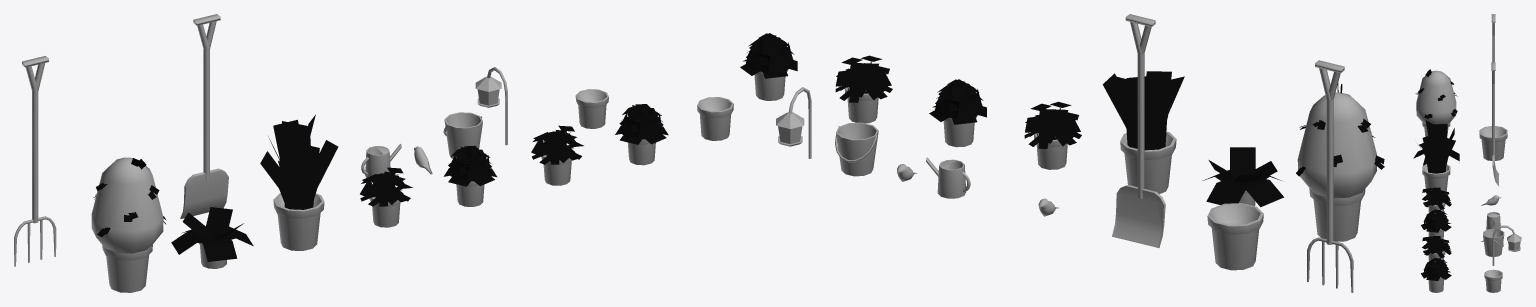
Rendered from Garden_Decor_03.fbx.
3 views of the same model, side by side, from view 1: azimuth 30°, elevation 25°; view 2: azimuth 150°, elevation 25°; view 3: azimuth 270°, elevation 25° (orthographic). The views are drawn at different scales.
Visible parts, largest first — view 1: MESH_Plant_07, MESH_Plant_Leave_04, MESH_Shovel, MESH_Plant_leave_06, MESH_Fork, MESH_Plant_04, MESH_Plant_Leave_03, MESH_Plant_Leave_01, MESH_Plant_Leave_02, MESH_Plant_Leave_05, MESH_Bucket, MESH_SmallPot (+7 smaller); view 2: MESH_Plant_07, MESH_Shovel, MESH_Plant_Leave_04, MESH_BigPot, MESH_Plant_leave_06, MESH_Fork, MESH_Bucket, MESH_Plant_04, MESH_Plant_Leave_05, MESH_Plant_Leave_02, MESH_Plant_Leave_01, MESH_Plant_Leave_03 (+8 smaller); view 3: MESH_Plant_07, MESH_Plant_Leave_04, MESH_BigPot, MESH_Bucket, MESH_Plant_Leave_01, MESH_Plant_Leave_03, MESH_Plant_04, MESH_Plant_Leave_05, MESH_Plant_Leave_02, MESH_Shovel, MESH_Lamp, MESH_SmallPot (+9 smaller).
Part boxes in pixels (x1,y1,x2,y2): MESH_Plant_07: (91,157,163,292); MESH_Plant_Leave_04: (260,114,338,209); MESH_Shovel: (180,14,228,218); MESH_Plant_leave_06: (171,207,253,261); MESH_Fork: (14,56,56,266); MESH_Plant_04: (273,193,324,250); MESH_Plant_Leave_03: (615,104,668,144); MESH_Plant_Leave_01: (443,145,496,186); MESH_Plant_Leave_02: (531,125,583,164); MESH_Plant_Leave_05: (360,167,412,206); MESH_Bucket: (443,112,482,158); MESH_SmallPot: (575,89,608,128); MESH_Plant_07: (1297,92,1377,241); MESH_Shovel: (1112,14,1165,247); MESH_Plant_Leave_04: (1102,71,1184,150); MESH_BigPot: (1207,203,1263,270); MESH_Plant_leave_06: (1202,147,1283,207); MESH_Fork: (1307,60,1353,292); MESH_Bucket: (835,122,878,176); MESH_Plant_04: (1120,131,1176,193); MESH_Plant_Leave_05: (1024,101,1081,148); MESH_Plant_Leave_02: (835,55,892,102); MESH_Plant_Leave_01: (929,79,986,124); MESH_Plant_Leave_03: (740,33,797,78); MESH_Plant_07: (1416,70,1456,137); MESH_Plant_Leave_04: (1419,120,1455,173); MESH_BigPot: (1479,126,1507,160); MESH_Bucket: (1483,228,1504,256); MESH_Plant_Leave_01: (1421,209,1451,232); MESH_Plant_Leave_03: (1421,257,1451,280); MESH_Plant_04: (1422,164,1450,194); MESH_Plant_Leave_05: (1422,187,1451,209); MESH_Plant_Leave_02: (1422,236,1451,257); MESH_Shovel: (1491,62,1499,185); MESH_Lamp: (1492,225,1521,265); MESH_SmallPot: (1484,269,1502,292).
Bounding box in the file's own units: 1403 × 449 × 380.
